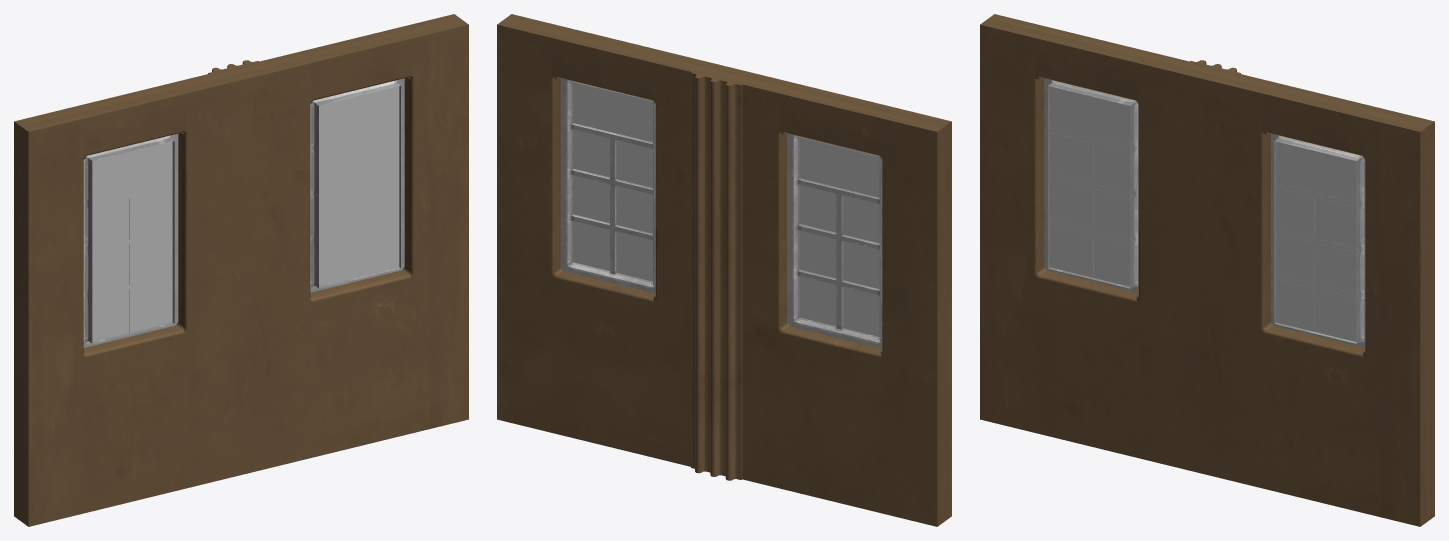
File: SM_Building02Wall05R.fbx
3 views of the same model, side by side, from view 1: azimuth 30°, elevation 25°; view 2: azimuth 150°, elevation 25°; view 3: azimuth 330°, elevation 25° (orthographic).
Visible parts, largest first — view 1: SM_Building02Wall05R_LOD0; view 2: SM_Building02Wall05R_LOD0; view 3: SM_Building02Wall05R_LOD0.
Boxes of the visible parts, x1,y1,x2,y2 form: SM_Building02Wall05R_LOD0: (14, 14, 468, 526); SM_Building02Wall05R_LOD0: (497, 14, 951, 526); SM_Building02Wall05R_LOD0: (980, 14, 1434, 526).
Bounding box in the file's own units: 350 × 26.5 × 300.
Materials: 4 (3 with a texture image).
